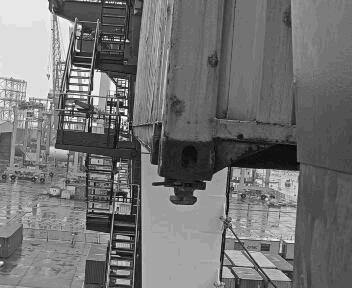twist_lock_1: (164, 140, 189, 160)
